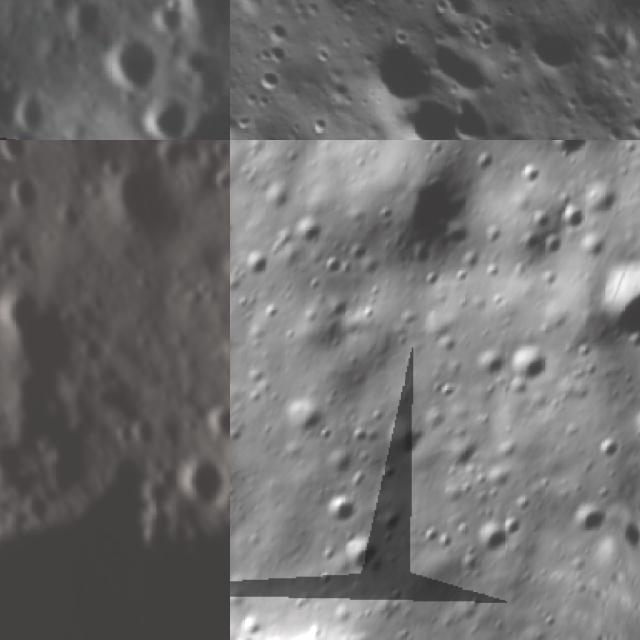crater: (0, 269, 95, 392), (87, 152, 195, 259), (343, 19, 448, 125), (127, 60, 230, 140), (96, 17, 186, 106), (576, 249, 640, 360), (383, 78, 478, 140), (520, 10, 594, 84), (158, 0, 230, 66), (1, 78, 75, 140), (165, 446, 230, 515), (133, 87, 204, 140), (368, 403, 428, 461), (559, 490, 611, 553), (467, 505, 518, 556), (0, 167, 49, 219), (493, 342, 546, 388), (14, 482, 65, 528), (312, 484, 359, 529), (430, 0, 492, 32), (254, 31, 297, 74), (100, 414, 141, 459), (249, 56, 290, 97), (258, 10, 298, 52), (124, 411, 163, 454), (201, 397, 230, 452), (153, 140, 196, 174), (50, 200, 88, 236), (92, 149, 130, 184), (208, 164, 230, 200), (206, 140, 230, 169)
